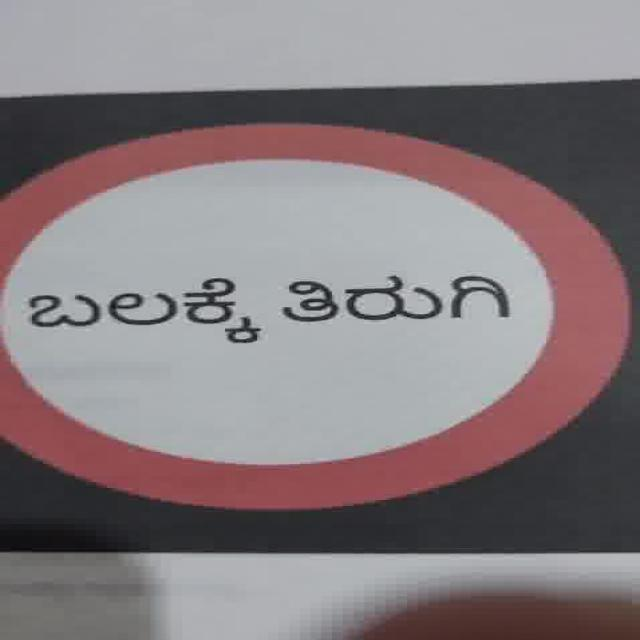kannadaright: (1, 119, 632, 511), (23, 272, 514, 342), (24, 276, 263, 344), (278, 273, 512, 323)
